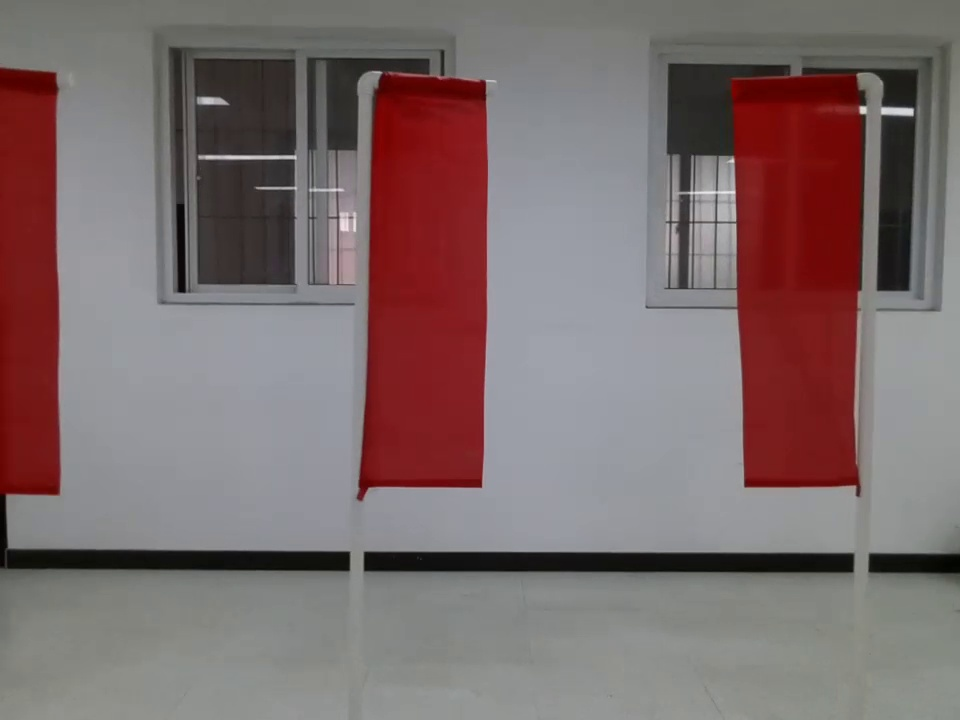qi: (723, 69, 898, 532), (338, 63, 502, 510), (2, 58, 67, 503)
